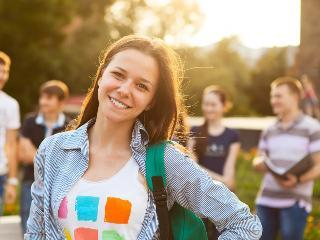person - v3 P: (25, 35, 182, 239), (253, 77, 319, 239), (19, 80, 70, 233), (187, 86, 240, 190), (0, 52, 20, 215), (302, 75, 319, 119)
